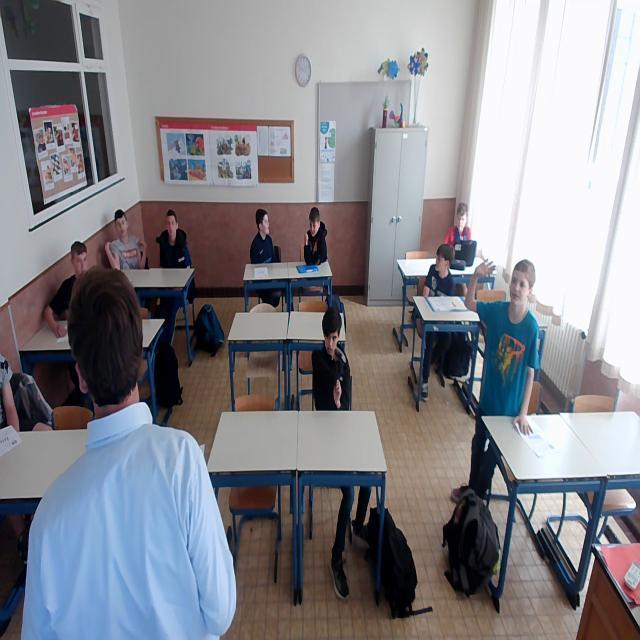Looking away: (435, 243, 454, 275), (255, 209, 271, 237), (306, 211, 322, 237)
Looking forward: (321, 308, 343, 356), (68, 240, 90, 273), (164, 210, 179, 238), (113, 211, 129, 236), (457, 205, 468, 232)
Raising hand: (461, 259, 538, 414)
